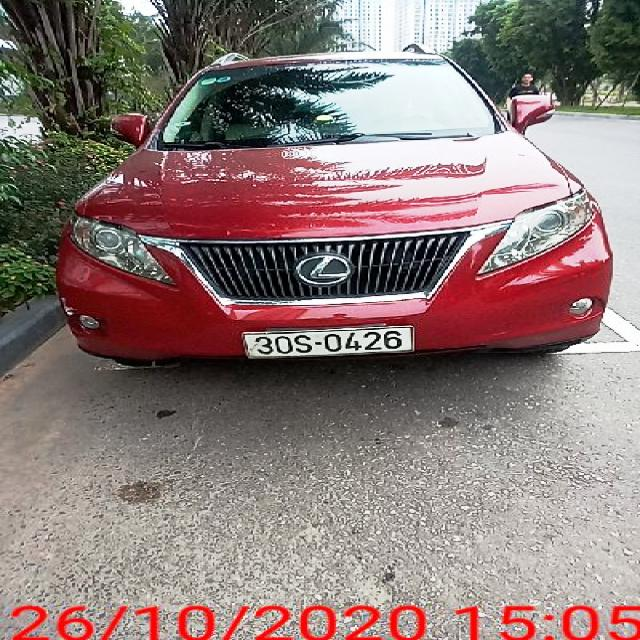license_plate: (246, 325, 417, 363)
